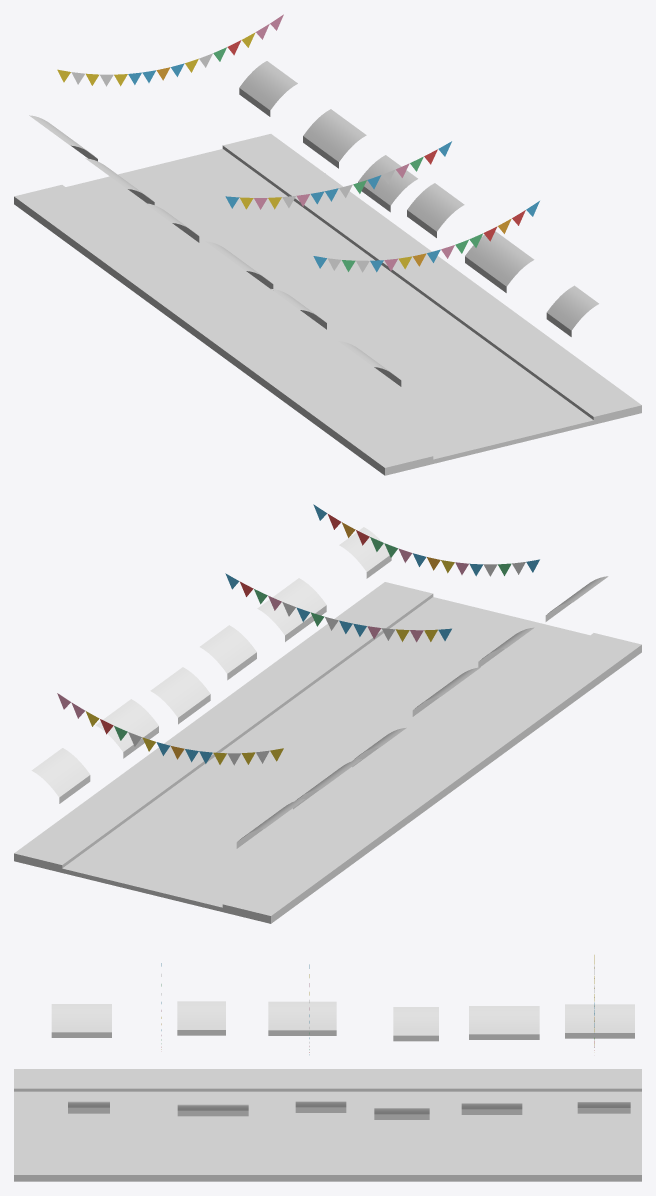
Rendered from Harita_05_Mahalle_Cami_Meydani_Ozel.fbx.
3 views of the same model, one above another, from view 1: azimuth 30°, elevation 25°; view 2: azimuth 150°, elevation 25°; view 3: azimuth 270°, elevation 25° (orthographic). The views are drawn at different scales.
Visible parts, largest first — view 1: Harita_05_Yol.001, Harita_05_Kaldirim_L.001, Harita_05_Kaldirim_R.001, Tente.156, Tente.159, Tente.160, Tente.157, Bayraklar.038, Bayraklar.040, Bayraklar.039, Tente.158, Tente.155; view 2: Harita_05_Yol.001, Harita_05_Kaldirim_L.001, Harita_05_Kaldirim_R.001, Tente.156, Tente.158, Tente.159, Tente.160, Tente.157, Bayraklar.038, Bayraklar.040, Bayraklar.039, Tente.155; view 3: Harita_05_Yol.001, Harita_05_Kaldirim_R.001, Harita_05_Kaldirim_L.001, Tente.154, Tente.151, Tente.153, Tente.149, Tente.150, Tente.152, Tente.156, Tente.159, Tente.158 (+3 smaller).
Part boxes in pixels (left/top/right/bottom): Harita_05_Yol.001: left=66, top=149, right=593, bottom=463; Harita_05_Kaldirim_L.001: left=14, top=185, right=433, bottom=475; Harita_05_Kaldirim_R.001: left=222, top=134, right=641, bottom=424; Tente.156: left=465, top=231, right=534, bottom=292; Tente.159: left=303, top=109, right=366, bottom=168; Tente.160: left=239, top=61, right=297, bottom=116; Tente.157: left=407, top=183, right=464, bottom=237; Bayraklar.038: left=313, top=201, right=539, bottom=272; Bayraklar.040: left=57, top=14, right=283, bottom=86; Bayraklar.039: left=225, top=141, right=451, bottom=209; Tente.158: left=358, top=155, right=417, bottom=212; Tente.155: left=546, top=285, right=598, bottom=336; Harita_05_Yol.001: left=62, top=597, right=589, bottom=911; Harita_05_Kaldirim_L.001: left=222, top=633, right=641, bottom=923; Harita_05_Kaldirim_R.001: left=14, top=582, right=433, bottom=872; Tente.156: left=257, top=578, right=326, bottom=641; Tente.158: left=150, top=667, right=210, bottom=724; Tente.159: left=95, top=699, right=158, bottom=758; Tente.160: left=31, top=748, right=90, bottom=803; Tente.157: left=200, top=625, right=256, bottom=680; Bayraklar.038: left=313, top=504, right=539, bottom=576; Bayraklar.040: left=57, top=693, right=283, bottom=765; Bayraklar.039: left=225, top=573, right=451, bottom=642; Tente.155: left=339, top=527, right=391, bottom=578; Harita_05_Yol.001: left=14, top=1091, right=641, bottom=1154; Harita_05_Kaldirim_R.001: left=14, top=1155, right=641, bottom=1181; Harita_05_Kaldirim_L.001: left=14, top=1069, right=641, bottom=1091; Tente.154: left=565, top=1004, right=634, bottom=1038; Tente.151: left=268, top=1001, right=336, bottom=1035; Tente.153: left=469, top=1006, right=539, bottom=1039; Tente.149: left=51, top=1004, right=111, bottom=1037; Tente.150: left=177, top=1001, right=225, bottom=1035; Tente.152: left=393, top=1007, right=438, bottom=1041; Tente.156: left=177, top=1104, right=248, bottom=1116; Tente.159: left=461, top=1103, right=522, bottom=1114; Tente.158: left=374, top=1108, right=429, bottom=1119.
Size of the model in its own units: 12 by 6.82 by 30.
